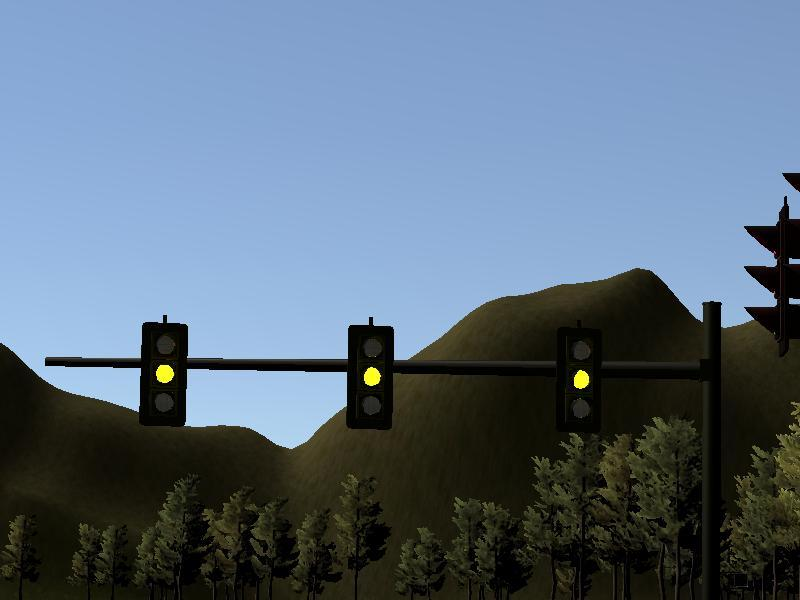Yellow: (557, 326, 604, 432), (345, 325, 392, 431), (139, 323, 186, 429)
